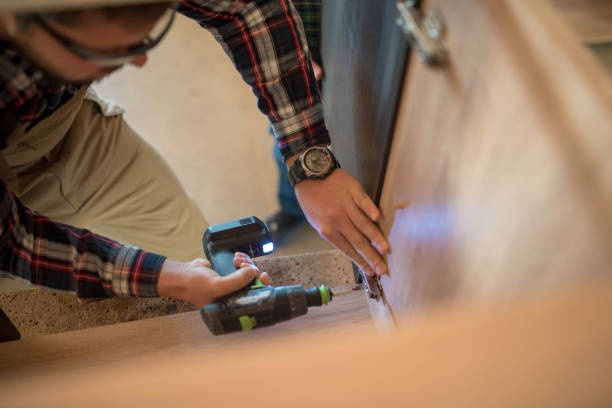driller: (192, 214, 363, 335)
